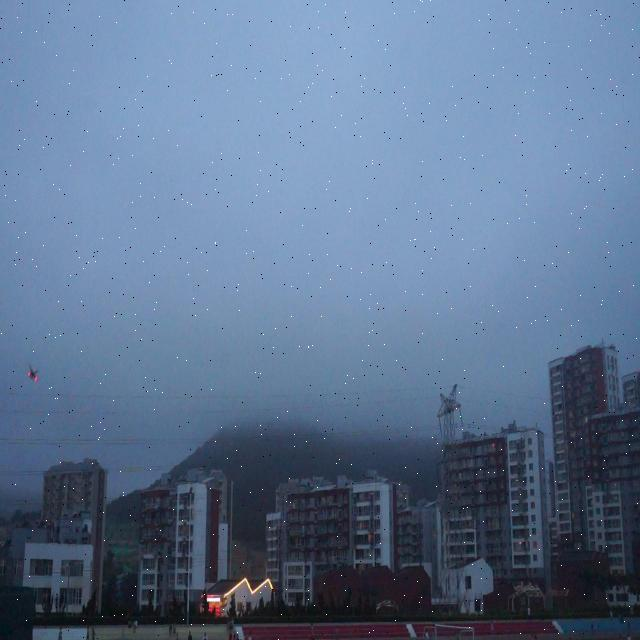UAV: (27, 364, 39, 382)
